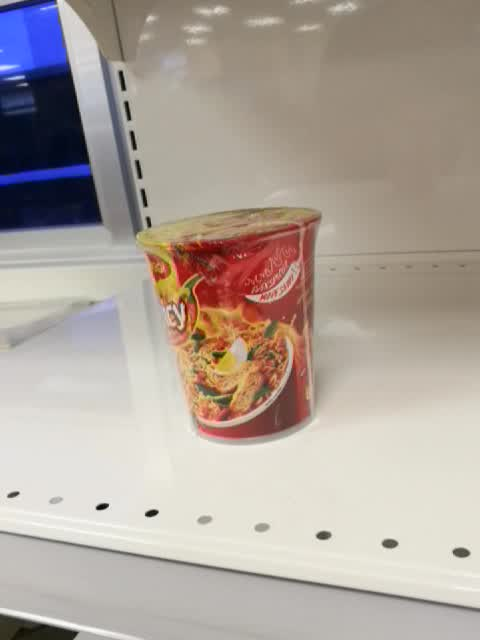maggi: (135, 204, 323, 446)
